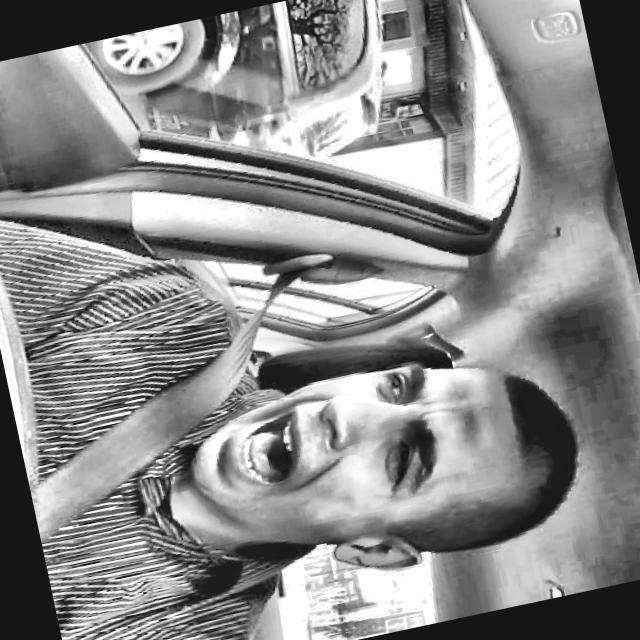open_eyes: (369, 361, 417, 411)
open_mouth: (206, 404, 314, 495)
